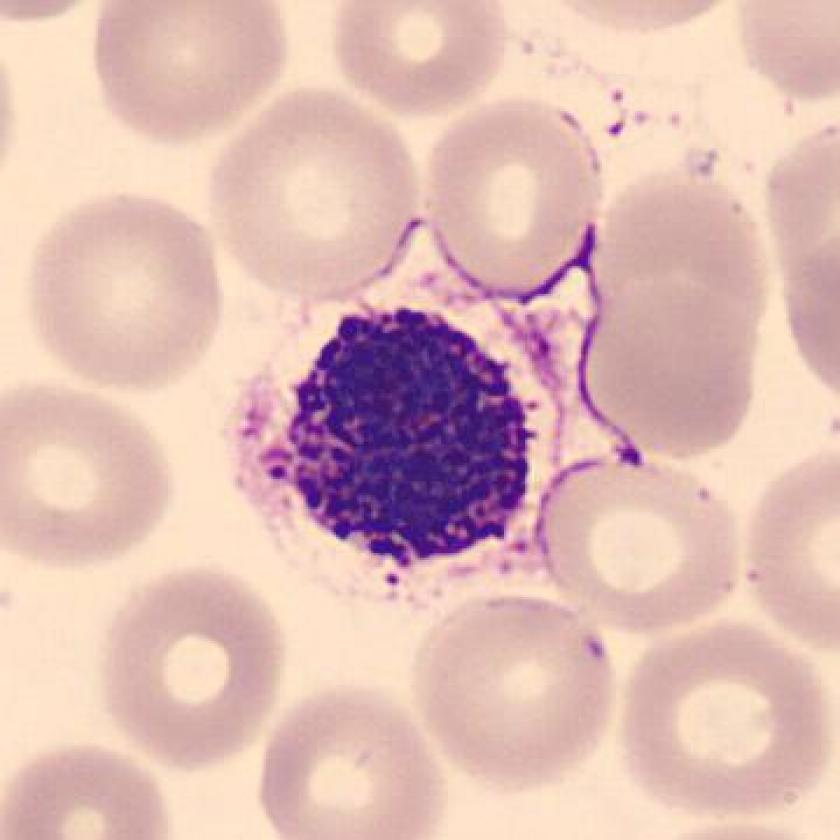basophil: (260, 281, 549, 589)
